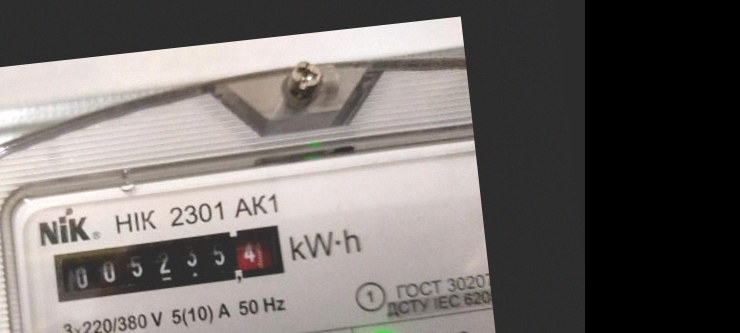0: (71, 263, 89, 289), (99, 258, 117, 283)
2: (153, 248, 172, 275)
3: (180, 242, 199, 268)
4: (237, 235, 259, 266)
5: (208, 238, 227, 267), (127, 252, 143, 278)
screen: (38, 213, 294, 311)
